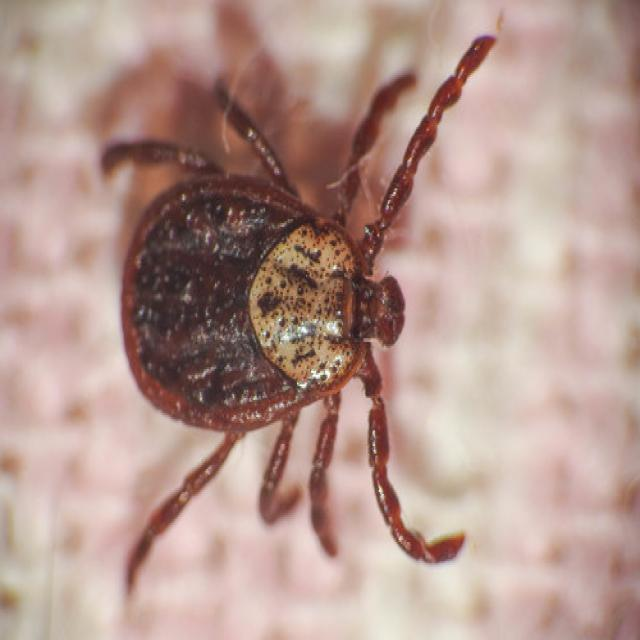Dermacentor Reticulatus-F: (104, 33, 495, 578)
